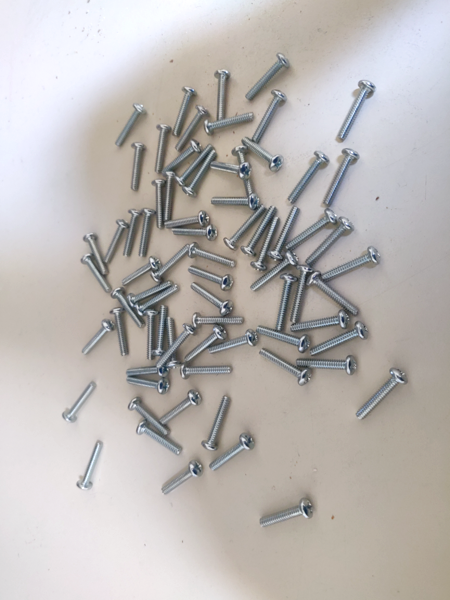longscrew: (361, 367, 406, 423), (285, 149, 330, 203), (308, 217, 352, 268), (336, 81, 374, 138), (307, 275, 360, 315), (246, 92, 288, 142), (321, 151, 358, 206), (288, 210, 336, 252), (249, 250, 298, 291), (312, 324, 369, 359), (323, 250, 380, 285), (241, 58, 291, 96), (259, 350, 310, 385), (226, 204, 266, 247), (183, 151, 216, 202), (291, 311, 347, 341), (156, 326, 194, 370), (270, 206, 299, 262), (241, 134, 283, 172), (245, 205, 276, 256), (153, 244, 191, 285), (259, 323, 309, 354), (270, 274, 297, 331), (262, 501, 313, 531), (137, 422, 182, 456), (128, 398, 168, 436), (112, 102, 146, 146), (212, 436, 254, 471), (202, 396, 230, 448), (178, 144, 212, 186), (186, 327, 225, 363), (173, 107, 207, 148), (162, 391, 200, 427), (192, 284, 233, 317), (234, 143, 256, 204), (191, 263, 231, 296), (159, 142, 199, 175), (136, 286, 177, 318), (256, 216, 279, 273), (288, 267, 312, 321), (113, 289, 145, 329), (164, 463, 201, 497), (205, 110, 253, 136), (76, 444, 101, 491), (64, 383, 94, 422), (212, 330, 255, 357), (130, 281, 171, 309), (83, 320, 114, 356), (190, 244, 236, 267), (294, 357, 356, 374), (121, 259, 158, 287), (171, 86, 193, 133), (82, 255, 108, 294), (103, 220, 126, 264), (137, 208, 156, 258), (121, 207, 140, 255), (163, 212, 211, 230), (152, 303, 168, 356), (128, 143, 146, 190), (153, 123, 169, 174), (85, 236, 107, 272), (112, 307, 128, 356), (181, 363, 232, 378), (208, 163, 258, 178), (162, 170, 176, 221), (192, 317, 244, 330), (144, 308, 156, 359), (127, 363, 167, 378), (172, 227, 221, 239), (212, 196, 263, 207), (128, 378, 168, 392), (165, 316, 174, 369), (155, 178, 164, 229)
